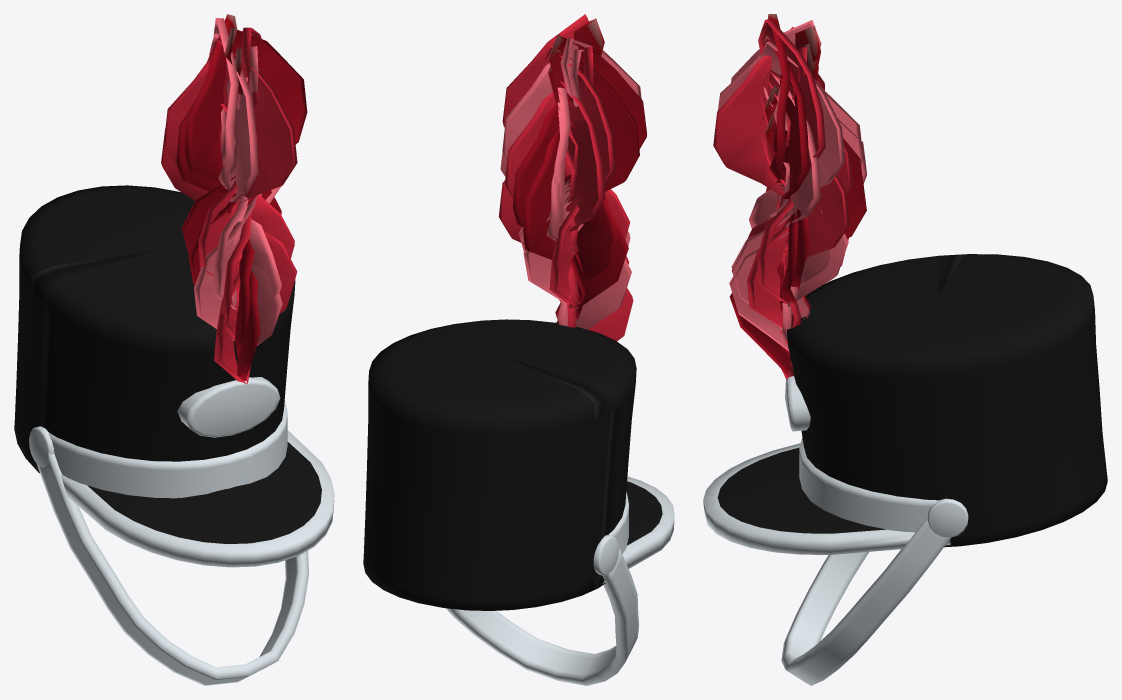
Rendered from lowpoly_marching_band_hat_red.glb.
3 views of the same model, side by side, from view 1: azimuth 30°, elevation 25°; view 2: azimuth 150°, elevation 25°; view 3: azimuth 270°, elevation 25° (orthographic). The views are drawn at different scales.
Visible parts, largest first — view 1: hat_1; view 2: hat_1; view 3: hat_1.
Part boxes in pixels (x1,y1,x2,y2): hat_1: (14, 14, 334, 685); hat_1: (363, 14, 674, 685); hat_1: (703, 14, 1107, 685).
Size of the model in its own units: 0.1757 by 0.4766 by 0.2674.
Materials: 10 (10 with a texture image).
